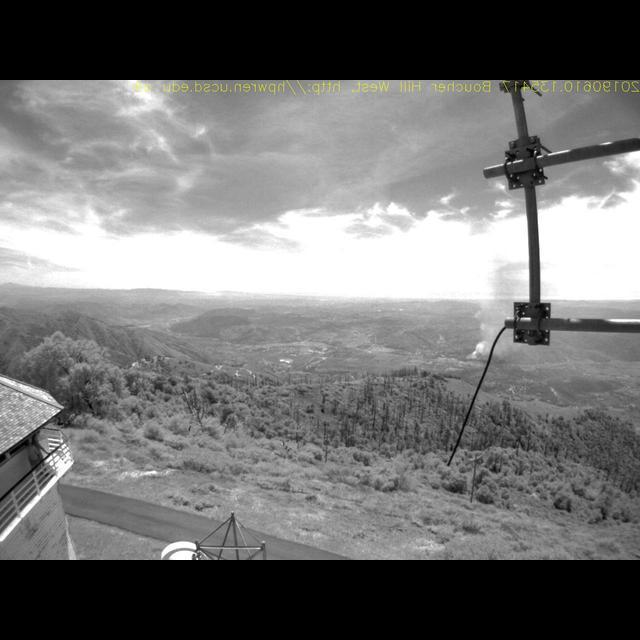Smoke: (468, 260, 528, 361)
